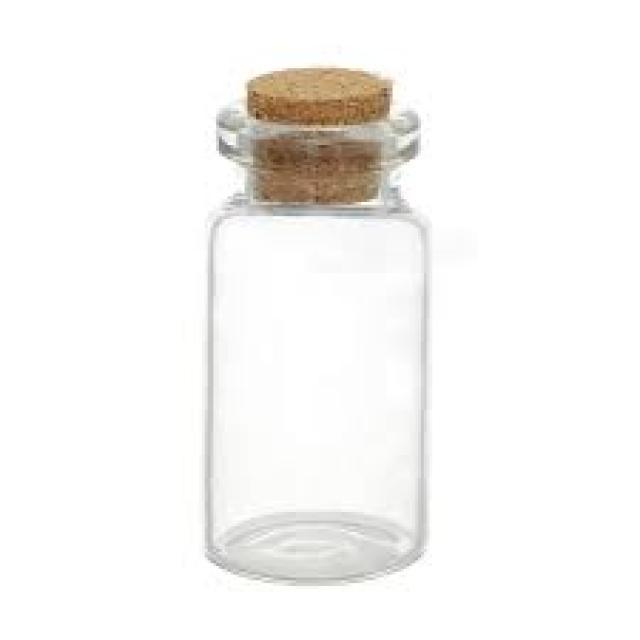Glass: (198, 128, 428, 584)
